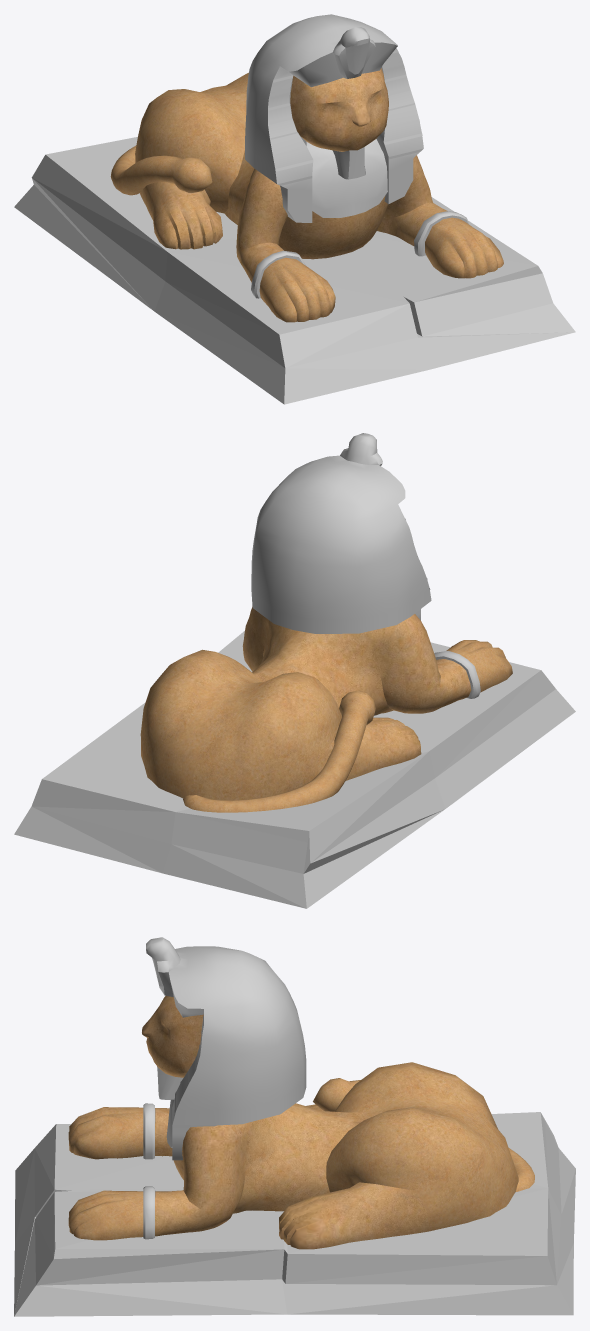
Rendered from Sphinx_LOD0.fbx.
The picture shows the model from 3 angles, top to bottom: view 1: azimuth 30°, elevation 25°; view 2: azimuth 150°, elevation 25°; view 3: azimuth 270°, elevation 25°; orthographic projection. The views are drawn at different scales.
Parts seen in each view (by area): view 1: Sphinx; view 2: Sphinx; view 3: Sphinx.
Boxes of the visible parts, x1,y1,x2,y2 form: Sphinx: [14, 14, 575, 404]; Sphinx: [14, 433, 575, 908]; Sphinx: [14, 937, 575, 1316].
Bounding box in the file's own units: 3008 × 2876 × 4797.
